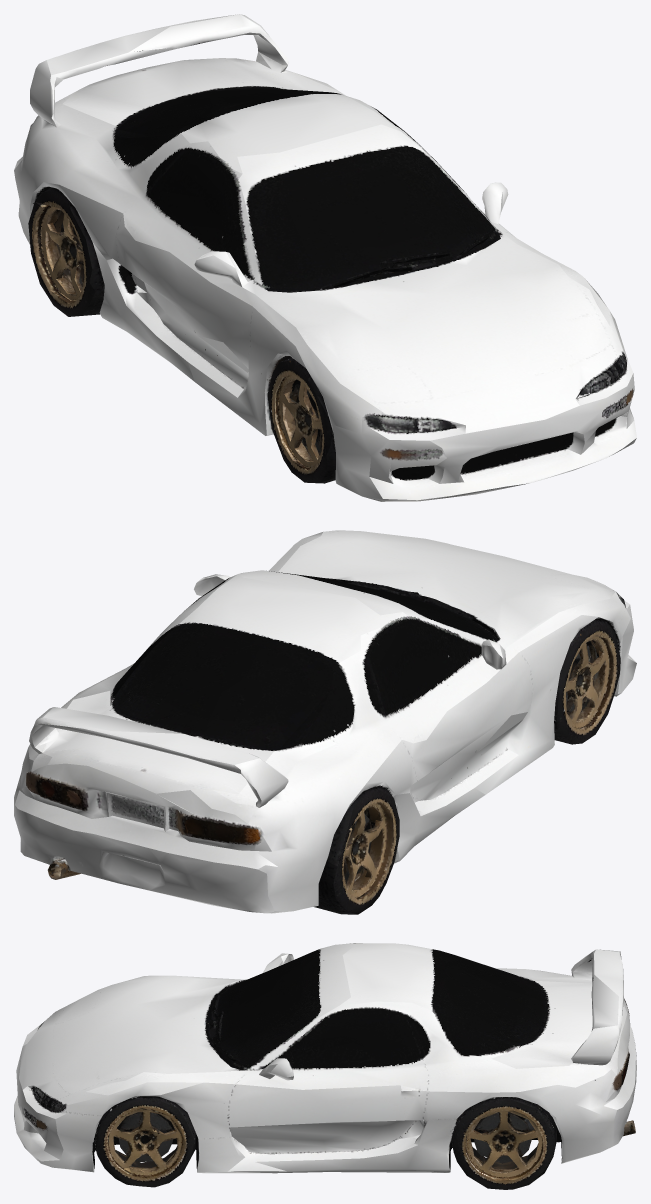
The model's file is rotary_lod.glb.
3 renders of one model, top to bottom at view 1: azimuth 30°, elevation 25°; view 2: azimuth 150°, elevation 25°; view 3: azimuth 270°, elevation 25°, orthographic. The views are drawn at different scales.
Parts seen in each view (by area): view 1: geometry_0; view 2: geometry_0; view 3: geometry_0.
Part boxes in pixels (x1=…): geometry_0: x1=14, y1=14, x2=636, y2=501; geometry_0: x1=14, y1=530, x2=636, y2=914; geometry_0: x1=14, y1=943, x2=636, y2=1189.
Bounding box in the file's own units: 0.4515 × 0.2942 × 1.
1 material, 1 textured.
